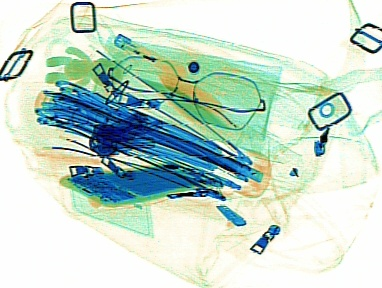lighter: (110, 32, 186, 78)
